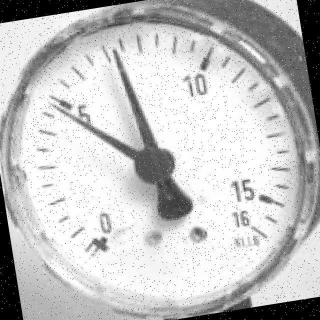gauge: (0, 0, 320, 320), (73, 207, 128, 268), (225, 202, 280, 250), (130, 142, 178, 190), (106, 44, 125, 66), (44, 98, 60, 114)
